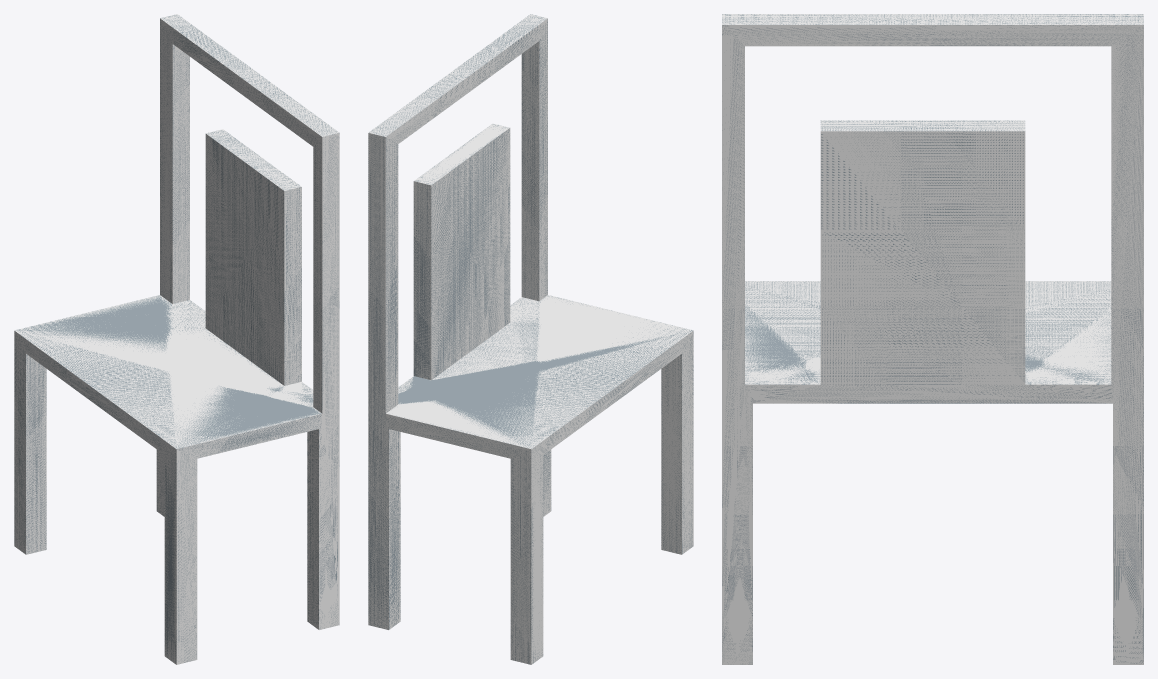
File: chair.fbx
The picture shows the model from 3 angles, left to right: view 1: azimuth 30°, elevation 25°; view 2: azimuth 150°, elevation 25°; view 3: azimuth 270°, elevation 25°; orthographic projection. The views are drawn at different scales.
Visible parts, largest first — view 1: Model; view 2: Model; view 3: Model.
Boxes of the visible parts, box(x1,y1,x2,y2) form: Model: box(14, 14, 339, 664); Model: box(368, 14, 693, 664); Model: box(722, 14, 1143, 664).
Size of the model in its own units: 3691 by 10634 by 6355.
